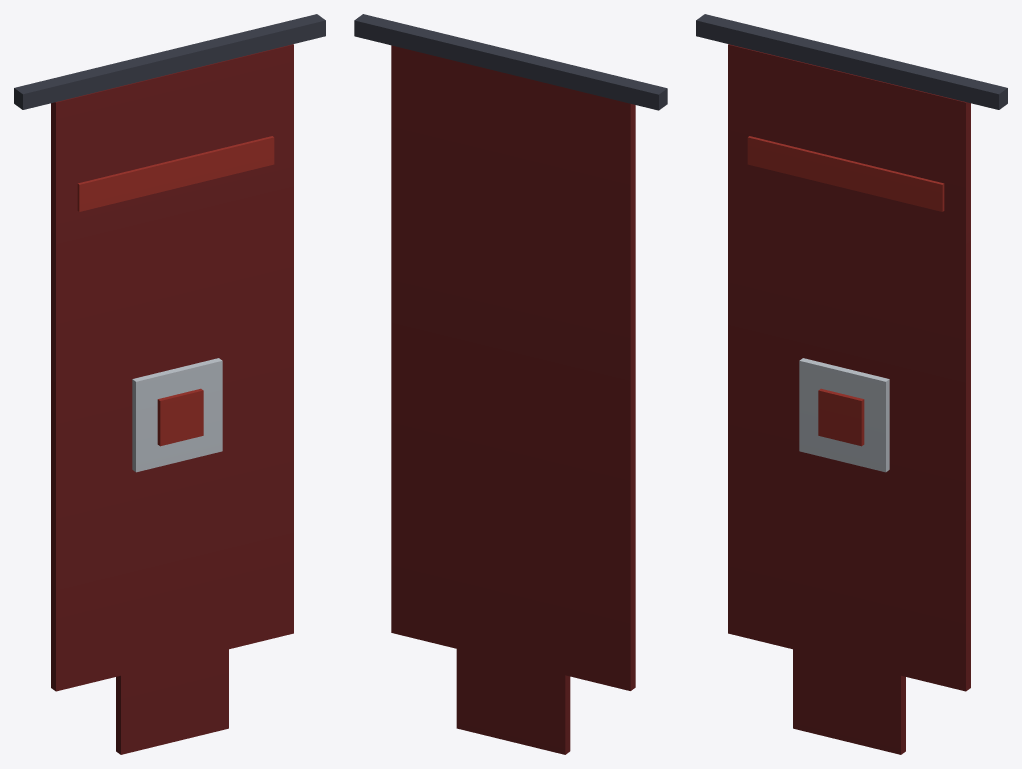
The model's file is banner_hall_banner.glb.
3 renders of one model, left to right at view 1: azimuth 30°, elevation 25°; view 2: azimuth 150°, elevation 25°; view 3: azimuth 330°, elevation 25°, orthographic.
Parts seen in each view (by area): view 1: banner_hall_banner; view 2: banner_hall_banner; view 3: banner_hall_banner.
Boxes of the visible parts, x1,y1,x2,y2 form: banner_hall_banner: (14,14,325,754); banner_hall_banner: (354,14,667,754); banner_hall_banner: (696,14,1007,754).
Bounding box in the file's own units: 1.4 × 3.02 × 0.13.
